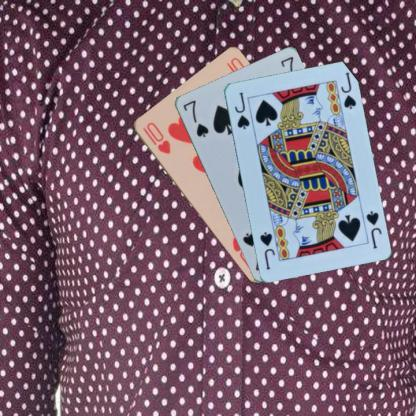10h: (140, 119, 172, 155)
7s: (180, 97, 210, 139)
Js: (363, 208, 382, 250), (232, 89, 250, 131)
